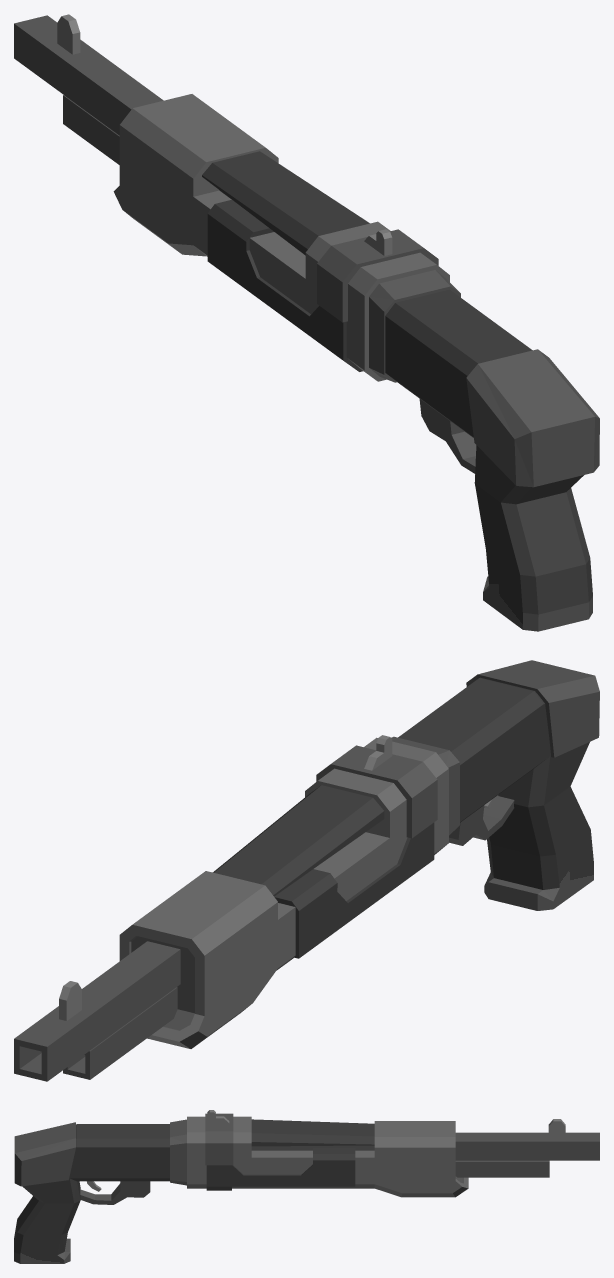
Rendered from shotgun_2.glb.
The picture shows the model from 3 angles, top to bottom: view 1: azimuth 30°, elevation 25°; view 2: azimuth 150°, elevation 25°; view 3: azimuth 270°, elevation 25°; orthographic projection. The views are drawn at different scales.
Visible parts, largest first — view 1: shotgun_2; view 2: shotgun_2; view 3: shotgun_2.
Boxes of the visible parts, x1=… form: shotgun_2: x1=14, y1=14, x2=599, y2=631; shotgun_2: x1=14, y1=660, x2=599, y2=1081; shotgun_2: x1=14, y1=1110, x2=599, y2=1263.
Size of the model in its own units: 0.3073 by 0.8014 by 2.96.
1 material, 1 textured.
